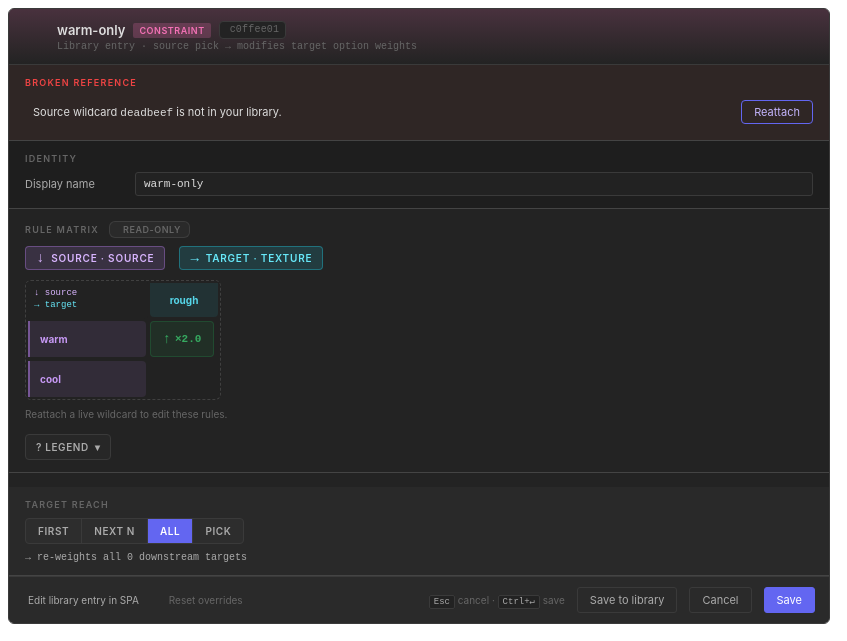
it: ConstraintInstanceModal — dangling source reattach › previews the per-cell dropped count for a non-surviving source pick (pre-confirm)
This screenshot has width=847, height=641.
Click the button with test id "reattach-btn-source" at (777, 112), box x1=741 y1=100 x2=813 y2=124
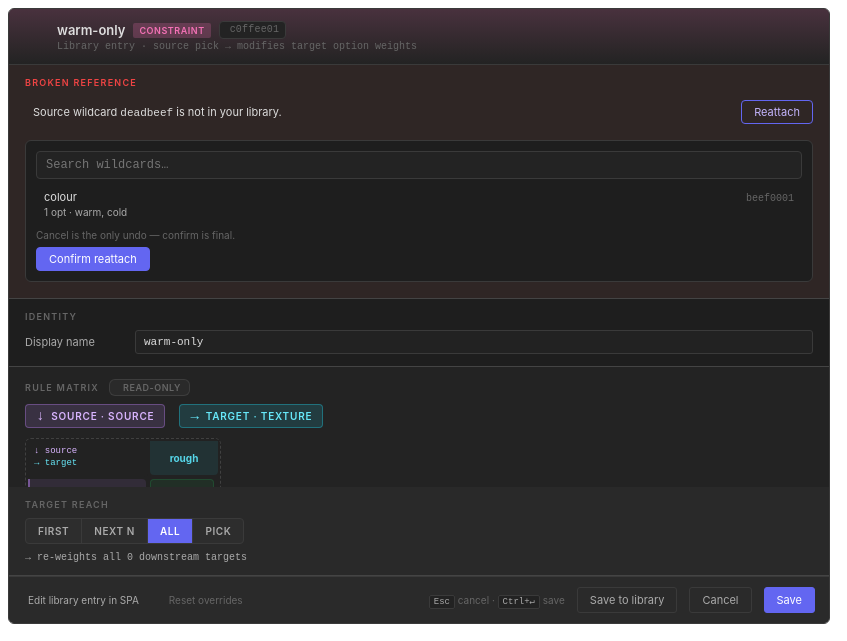
Click the list item with test id "reattach-candidate-beef0001" at (60, 197), box x1=36 y1=185 x2=802 y2=223
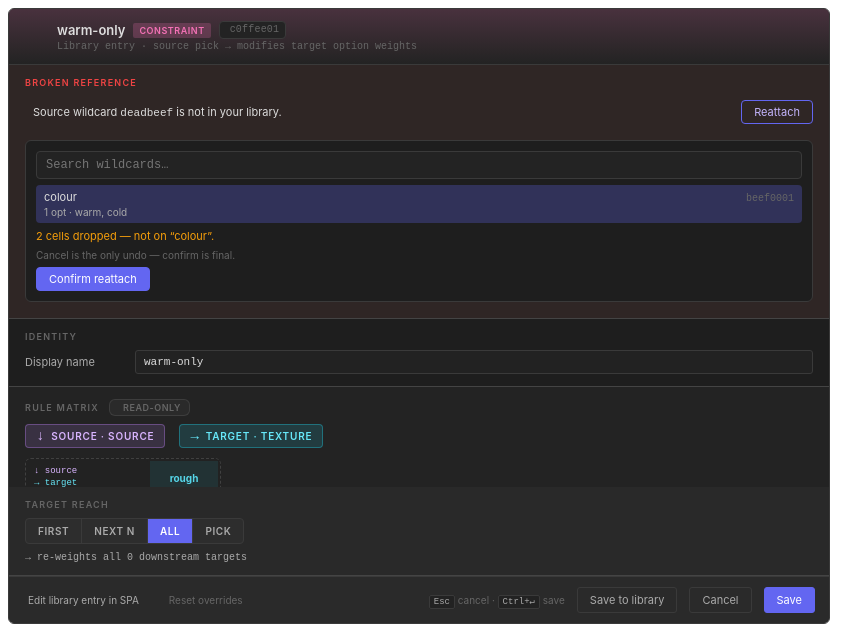
Now the text with test id "reattach-dropped-source" shows "2 cells dropped", box x1=36 y1=229 x2=214 y2=243
